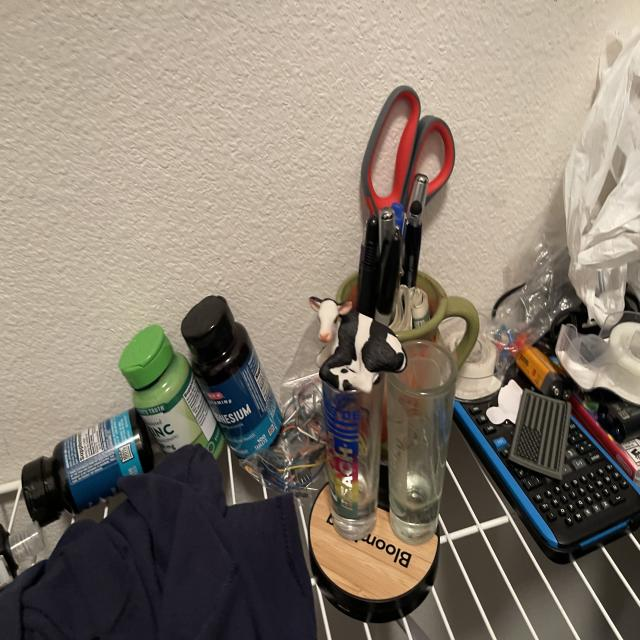cow: (309, 287, 410, 397)
